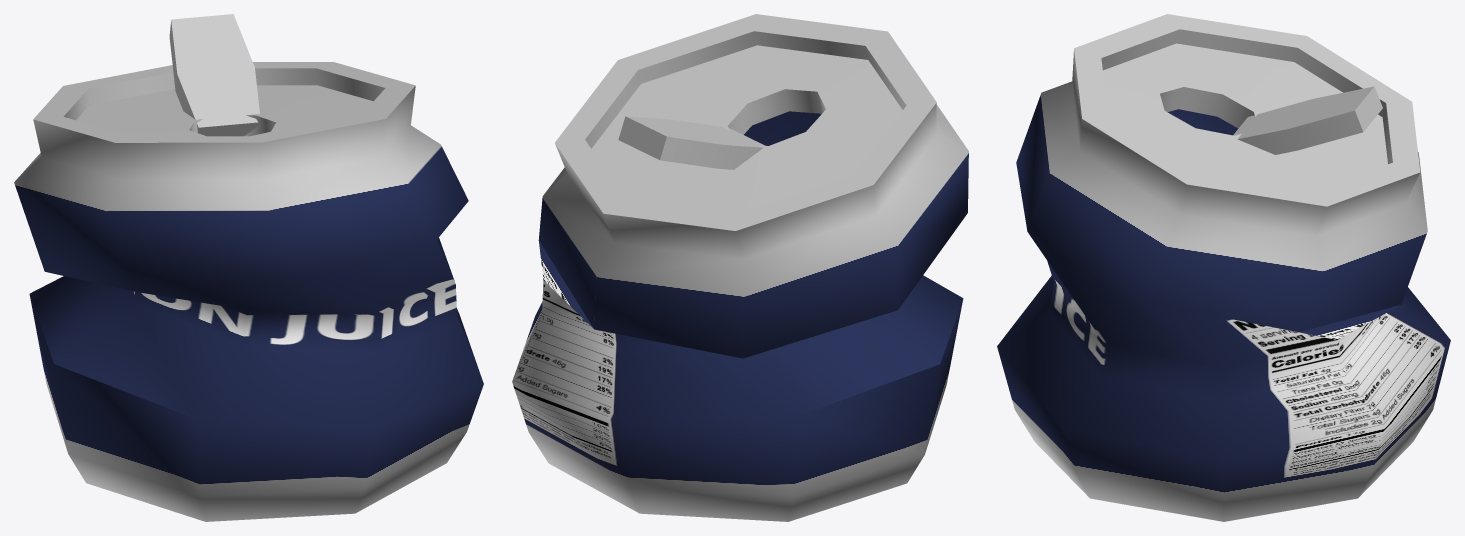
Rendered from Can_crunched.fbx.
The picture shows the model from 3 angles, left to right: view 1: azimuth 30°, elevation 25°; view 2: azimuth 150°, elevation 25°; view 3: azimuth 270°, elevation 25°; orthographic projection. The views are drawn at different scales.
Parts seen in each view (by area): view 1: CanCrunched; view 2: CanCrunched; view 3: CanCrunched.
Part boxes in pixels (box(x1,y1,x2,y2)): CanCrunched: box(14, 14, 483, 521); CanCrunched: box(512, 14, 968, 521); CanCrunched: box(997, 14, 1450, 521).
Size of the model in its own units: 10.84 by 9.53 by 10.91.
